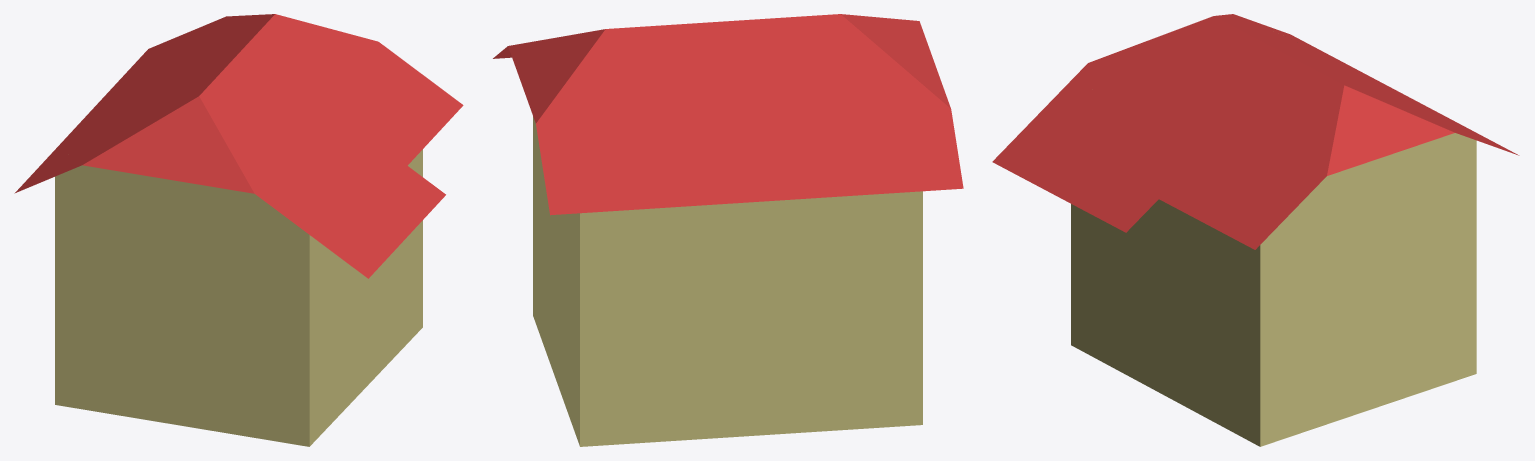
3 views of the same model, side by side, from view 1: azimuth 30°, elevation 25°; view 2: azimuth 150°, elevation 25°; view 3: azimuth 270°, elevation 25° (orthographic). The views are drawn at different scales.
Size of the model in its own units: 15.87 by 16.76 by 10.84.
